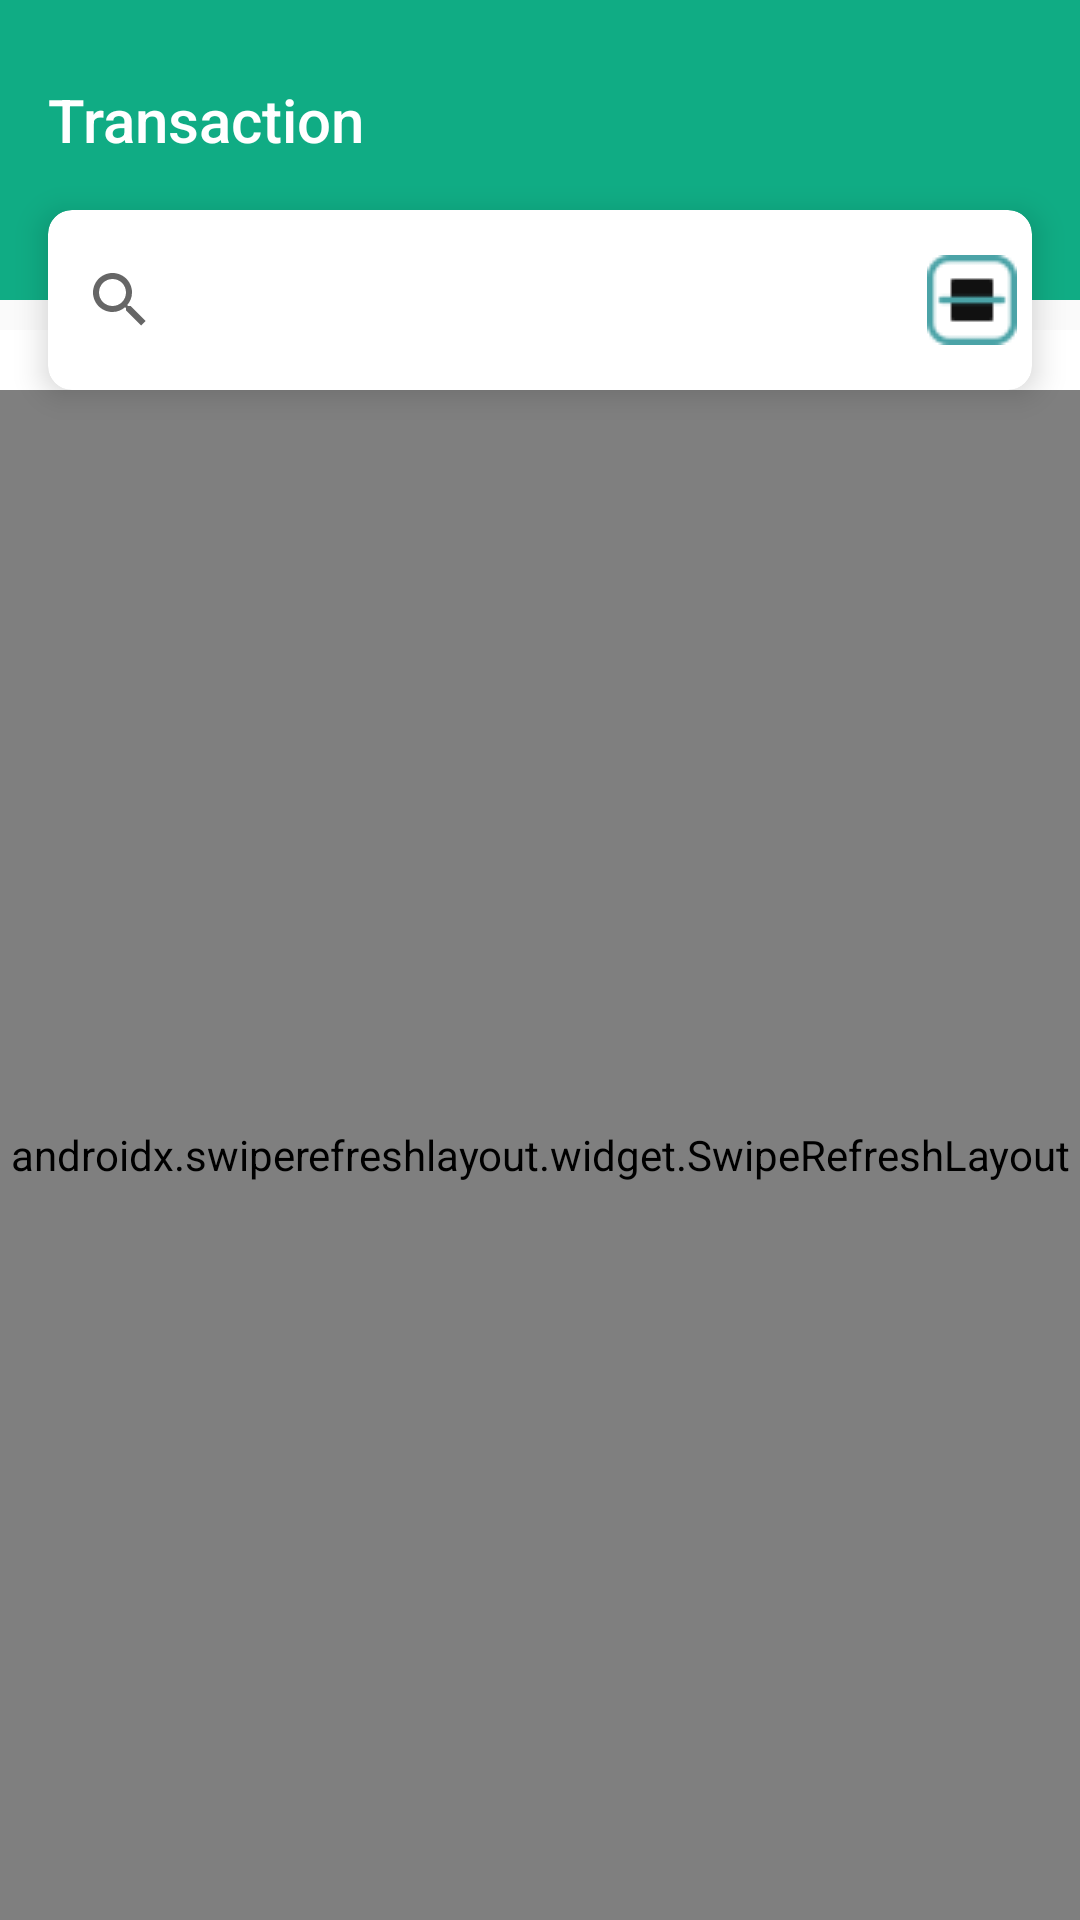

Locate icon controls on the screen. Image size 1080*1920, boxes as [left=x1, top=y1, right=x2, bottom=y2].
scan barcode: [left=927, top=255, right=1017, bottom=345]
